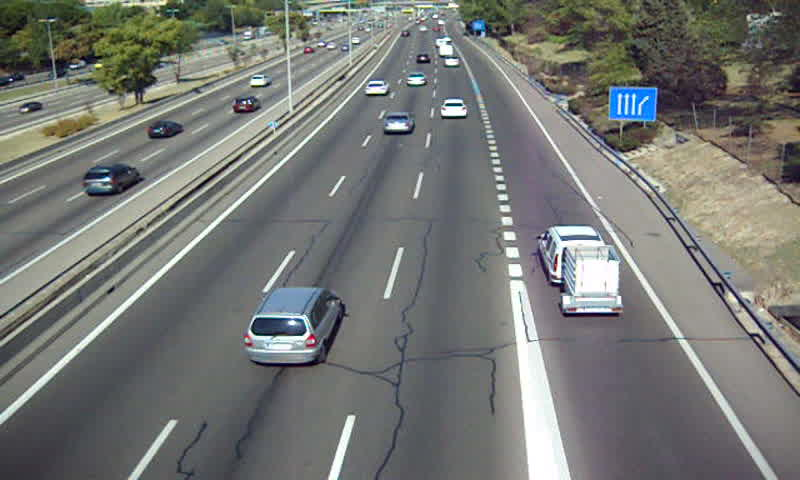car: (244, 286, 344, 365), (382, 112, 415, 135), (441, 98, 468, 119), (364, 80, 389, 97), (404, 72, 428, 88), (444, 55, 461, 68)
van: (537, 227, 608, 284)
